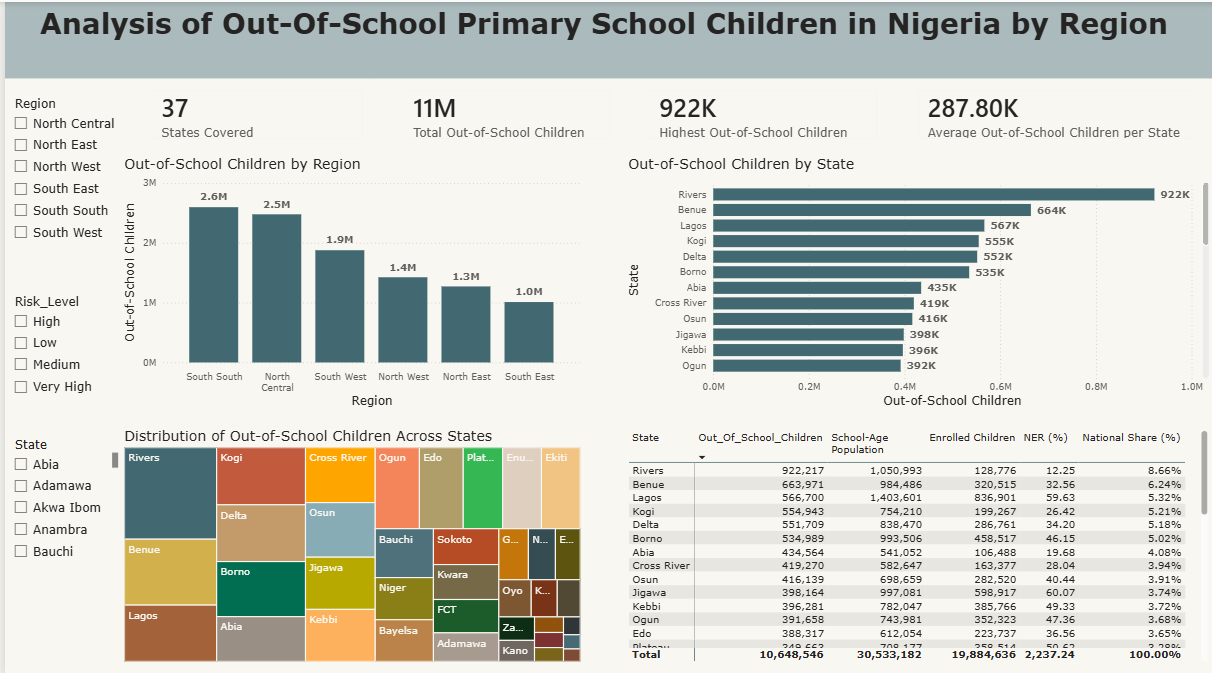

This screenshot's page, from the dashboard's own definition file:
{"tool":"powerbi","page":{"name":"Page 1","canvas":[1600,900],"ordinal":0},"visuals":[{"type":"cardVisual","fields":{"Data":["Nigeria_OOSC.Total Out of School Children"]},"box":[510.3,99.4,308.2,99.4],"z":0},{"type":"cardVisual","fields":{"Data":["Nigeria_OOSC.Average Out-Of-School Children"]},"box":[1193,99.4,399.6,99.4],"z":1000},{"type":"cardVisual","fields":{"Data":["Nigeria_OOSC.Number Of State"]},"box":[177,99.4,314.1,99.4],"z":2000},{"type":"cardVisual","fields":{"Data":["Nigeria_OOSC.Highest State Value"]},"box":[837.7,99.4,336,99.4],"z":3000},{"type":"clusteredBarChart","fields":{"Y":["Nigeria_OOSC.Total Out of School Children"],"Category":["Nigeria_OOSC.State"]},"box":[821.2,202.8,779.4,340],"z":4000},{"type":"treemap","title":"Distribution of Out-of-School Children Across States ","fields":{"Group":["Nigeria_OOSC.State"],"Values":["Nigeria_OOSC.Total Out of School Children"]},"box":[154,562,614,316],"z":5000},{"type":"pivotTable","fields":{"Values":["Sum(Nigeria_OOSC.Out_Of_School_Children)","Sum(Nigeria_OOSC.Population_Total)","Sum(Nigeria_OOSC.Enrollment_Total)","Sum(Nigeria_OOSC.NER_Total)","Nigeria_OOSC.National Share (%)"],"Rows":["Nigeria_OOSC.State"]},"box":[822,562,778,316],"z":6000},{"type":"slicer","fields":{"Values":["Nigeria_OOSC.Region"]},"box":[0,119.3,155,208.8],"z":7000},{"type":"slicer","fields":{"Values":["Nigeria_OOSC.Risk_Level"]},"box":[0,381.7,155,190.9],"z":8000},{"type":"slicer","fields":{"Values":["Nigeria_OOSC.State"]},"box":[0,570.6,155.1,178.9],"z":9000},{"type":"clusteredColumnChart","fields":{"Y":["Nigeria_OOSC.Total Out of School Children"],"Category":["Nigeria_OOSC.Region"]},"box":[154,202,614,340],"z":10000},{"type":"textbox","box":[0,0,1600.6,101.4],"z":11000}]}

Visuals, with their boxes in screenshot pixels (x1, y1, x2, y2), scaled from the page's 1600x900 canvas onto the 1212x673 screenshot:
cardVisual - Nigeria_OOSC.Total Out of School Children: box=[387, 74, 620, 149]
cardVisual - Nigeria_OOSC.Average Out-Of-School Children: box=[904, 74, 1206, 149]
cardVisual - Nigeria_OOSC.Number Of State: box=[134, 74, 372, 149]
cardVisual - Nigeria_OOSC.Highest State Value: box=[635, 74, 889, 149]
clusteredBarChart - Nigeria_OOSC.Total Out of School Children x Nigeria_OOSC.State: box=[622, 152, 1211, 406]
"Distribution of Out-of-School Children Across States " treemap: box=[117, 420, 582, 657]
pivotTable - Sum(Nigeria_OOSC.Out_Of_School_Children) x Sum(Nigeria_OOSC.Population_Total): box=[623, 420, 1211, 657]
slicer - Nigeria_OOSC.Region: box=[0, 89, 117, 245]
slicer - Nigeria_OOSC.Risk_Level: box=[0, 285, 117, 428]
slicer - Nigeria_OOSC.State: box=[0, 427, 117, 560]
clusteredColumnChart - Nigeria_OOSC.Total Out of School Children x Nigeria_OOSC.Region: box=[117, 151, 582, 405]
textbox: box=[0, 0, 1211, 76]
